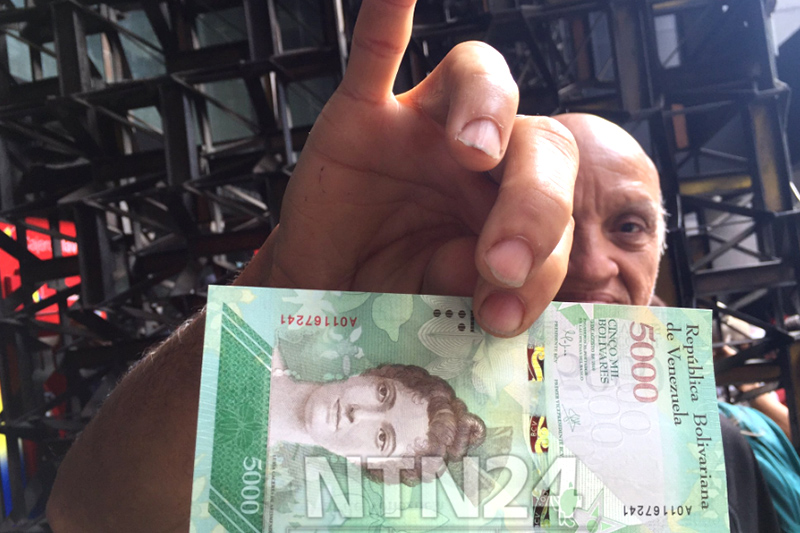billete: (189, 285, 728, 533)
